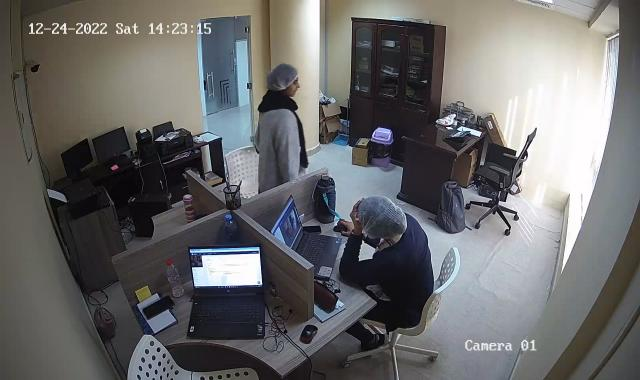hairnet: (351, 200, 407, 243), (268, 64, 301, 101)
